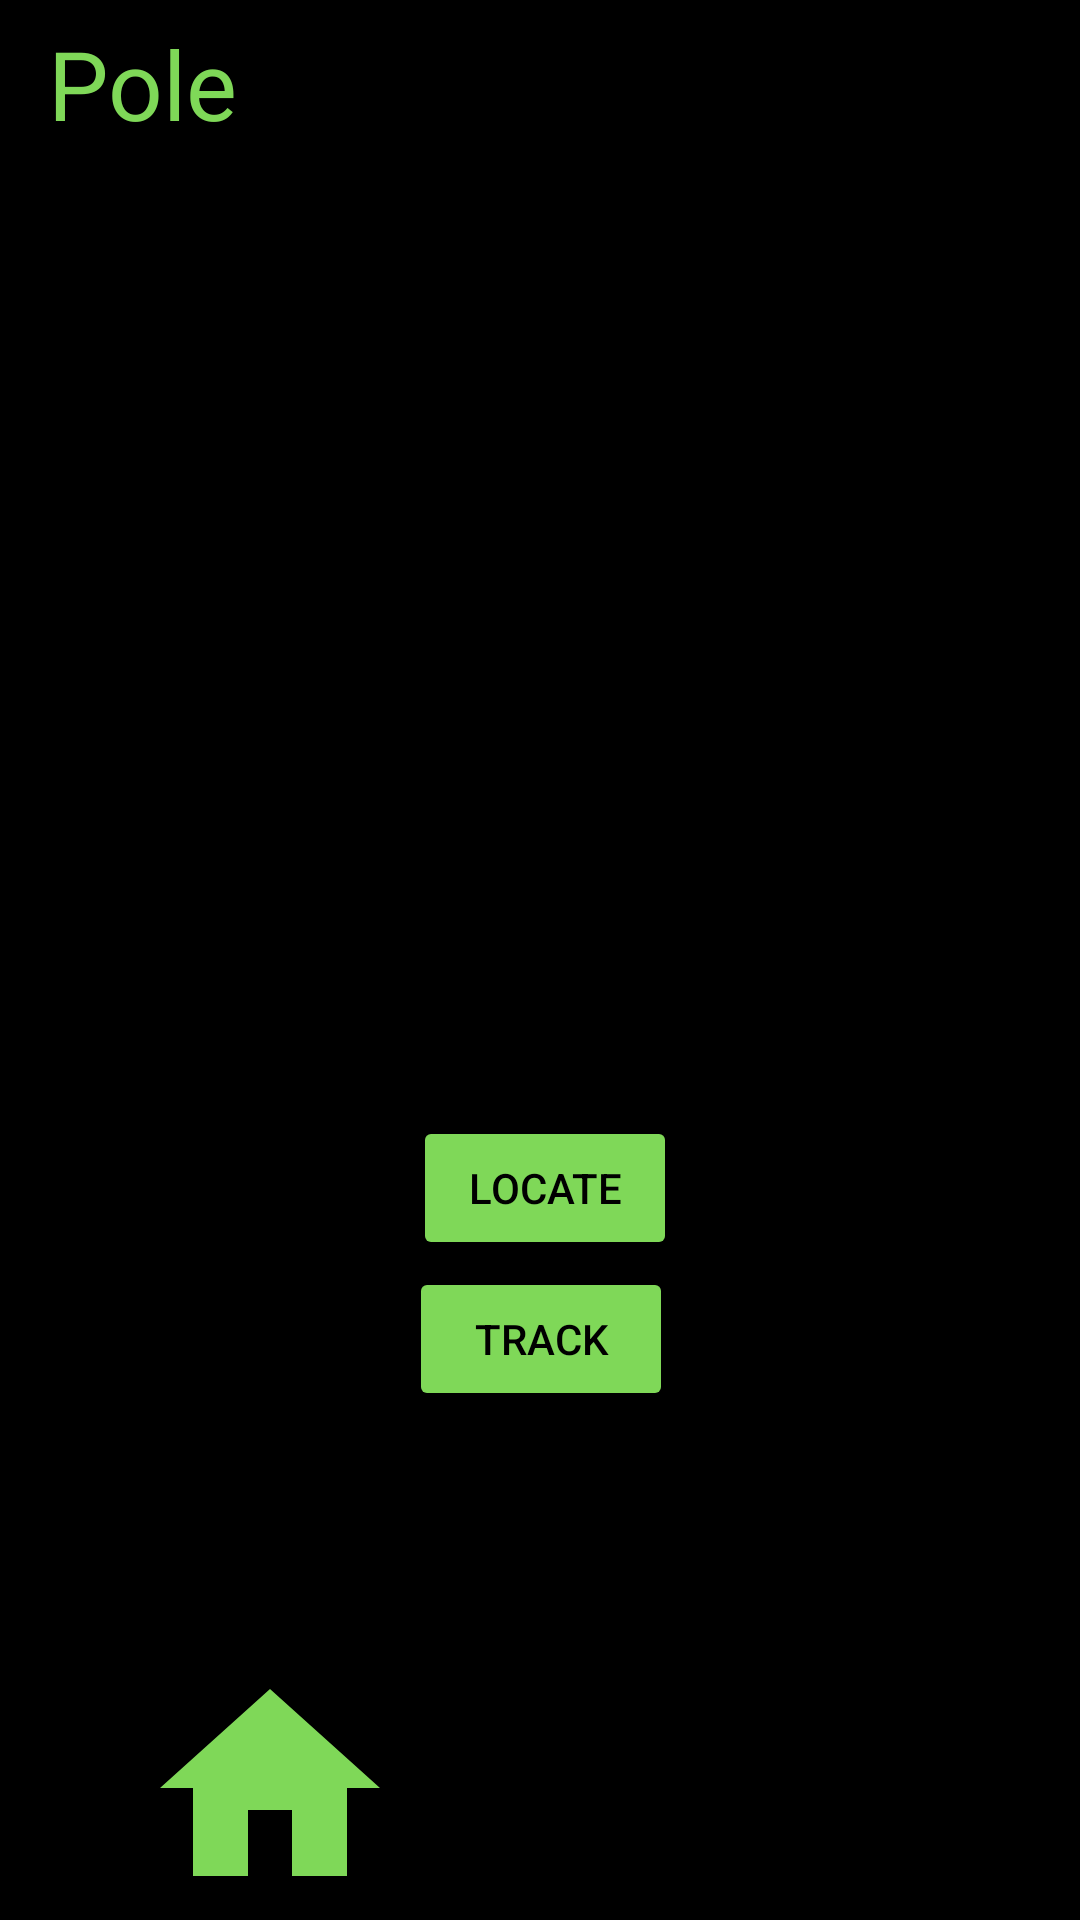

Point at icon controls on the screen. Image size 1080 × 1920, points as point (x, y).
home: point (270, 1782)
